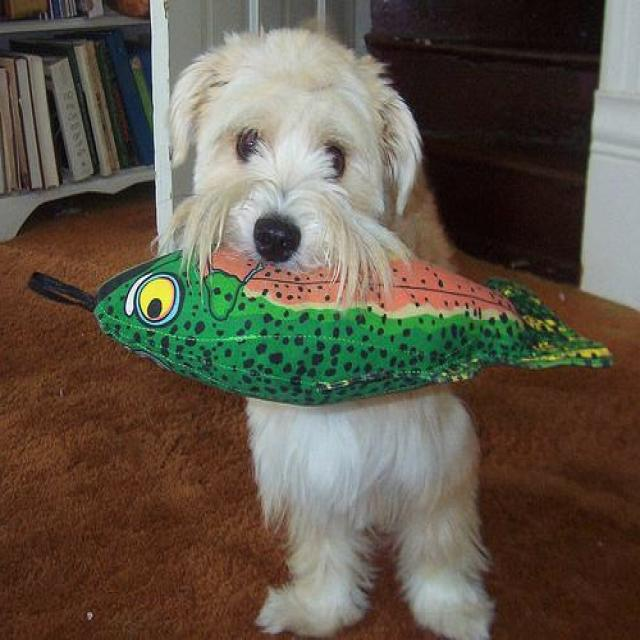maltese_dog: (155, 25, 494, 637)
